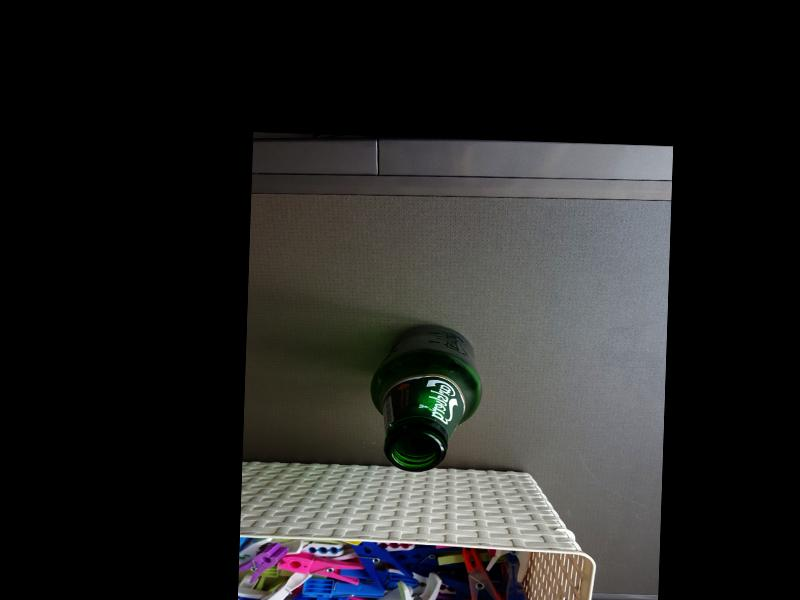Beer: (368, 322, 485, 473)
